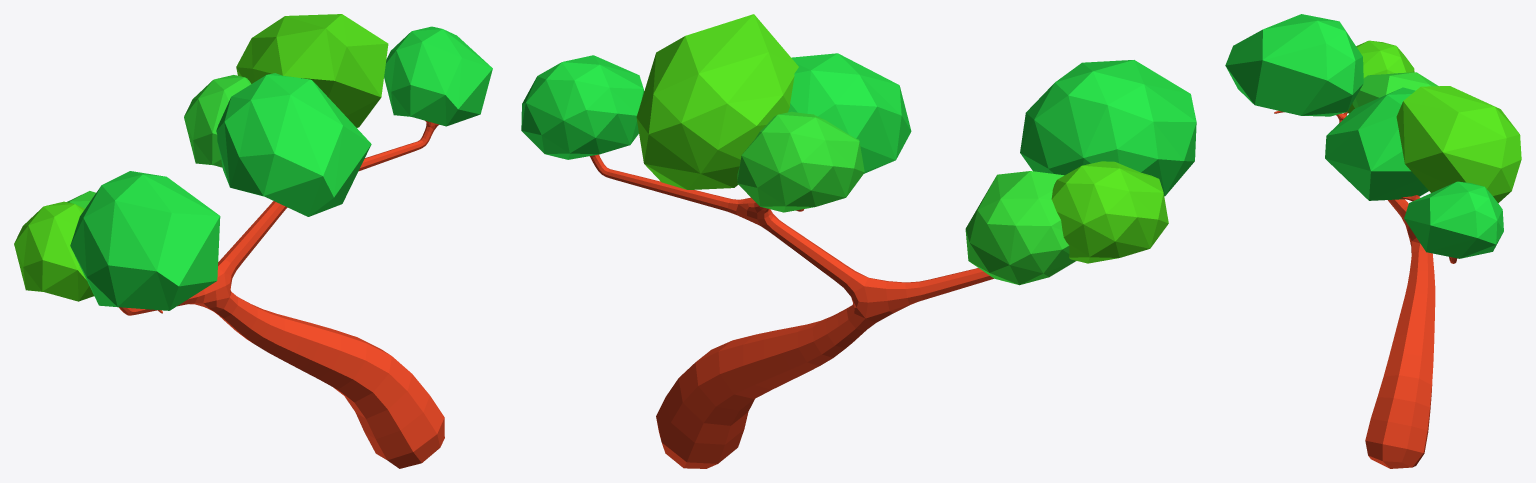
File: Polytree.fbx
The picture shows the model from 3 angles, left to right: view 1: azimuth 30°, elevation 25°; view 2: azimuth 150°, elevation 25°; view 3: azimuth 270°, elevation 25°; orthographic projection. The views are drawn at different scales.
Parts seen in each view (by area): view 1: Cube, Icosphere.002, Icosphere.004, Icosphere.003, Icosphere.001, Icosphere.006, Icosphere.005; view 2: Cube, Icosphere.003, Icosphere.002, Icosphere.001, Icosphere.005, Icosphere.006, Icosphere, Icosphere.004; view 3: Icosphere.002, Icosphere.003, Cube, Icosphere.004, Icosphere.001, Icosphere.006, Icosphere.
Boxes of the visible parts, box(x1,y1,x2,y2) form: Cube: box(119, 120, 444, 468); Icosphere.002: box(70, 171, 220, 310); Icosphere.004: box(216, 73, 371, 216); Icosphere.003: box(236, 14, 388, 127); Icosphere.001: box(384, 26, 492, 126); Icosphere.006: box(14, 201, 93, 301); Icosphere.005: box(184, 75, 250, 167); Cube: box(590, 154, 993, 468); Icosphere.003: box(636, 14, 798, 189); Icosphere.002: box(1020, 60, 1196, 196); Icosphere.001: box(521, 55, 644, 159); Icosphere.005: box(737, 111, 864, 212); Icosphere.006: box(1051, 161, 1168, 263); Icosphere: box(965, 171, 1075, 285); Icosphere.004: box(788, 53, 911, 173); Icosphere.002: box(1225, 14, 1363, 116); Icosphere.003: box(1396, 86, 1521, 203); Cube: box(1274, 110, 1457, 468); Icosphere.004: box(1325, 87, 1428, 200); Icosphere.001: box(1404, 181, 1503, 258); Icosphere.006: box(1347, 40, 1414, 113); Icosphere: box(1352, 72, 1438, 108).
Bounding box in the file's own units: 418 × 342 × 257.
